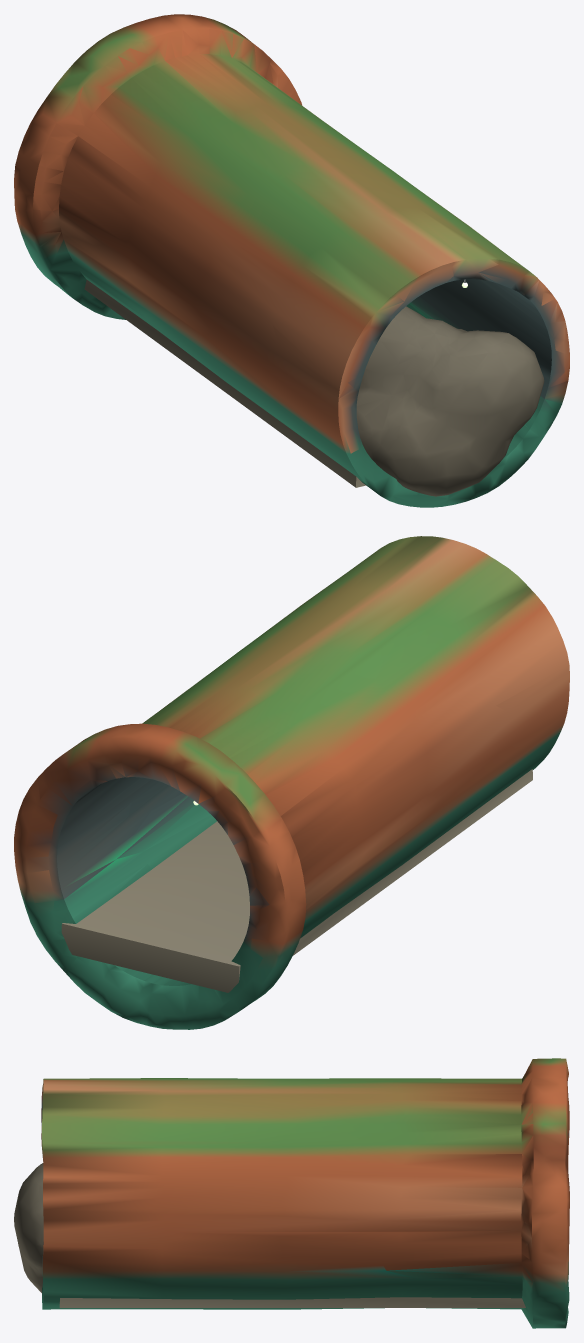
The model's file is grotto_drain_pipe_lod1.glb.
3 views of the same model, one above another, from view 1: azimuth 30°, elevation 25°; view 2: azimuth 150°, elevation 25°; view 3: azimuth 270°, elevation 25° (orthographic). The views are drawn at different scales.
Visible parts, largest first — view 1: grotto_drain_pipe.001; view 2: grotto_drain_pipe.001; view 3: grotto_drain_pipe.001.
Boxes of the visible parts, x1,y1,x2,y2 form: grotto_drain_pipe.001: [14, 14, 569, 507]; grotto_drain_pipe.001: [14, 536, 569, 1029]; grotto_drain_pipe.001: [14, 1058, 569, 1328].
Size of the model in its own units: 9.86 by 9.81 by 20.2.
